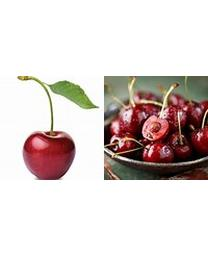cherry: (23, 131, 75, 180), (140, 115, 169, 142), (118, 107, 145, 131), (161, 104, 187, 128), (143, 144, 173, 161)
